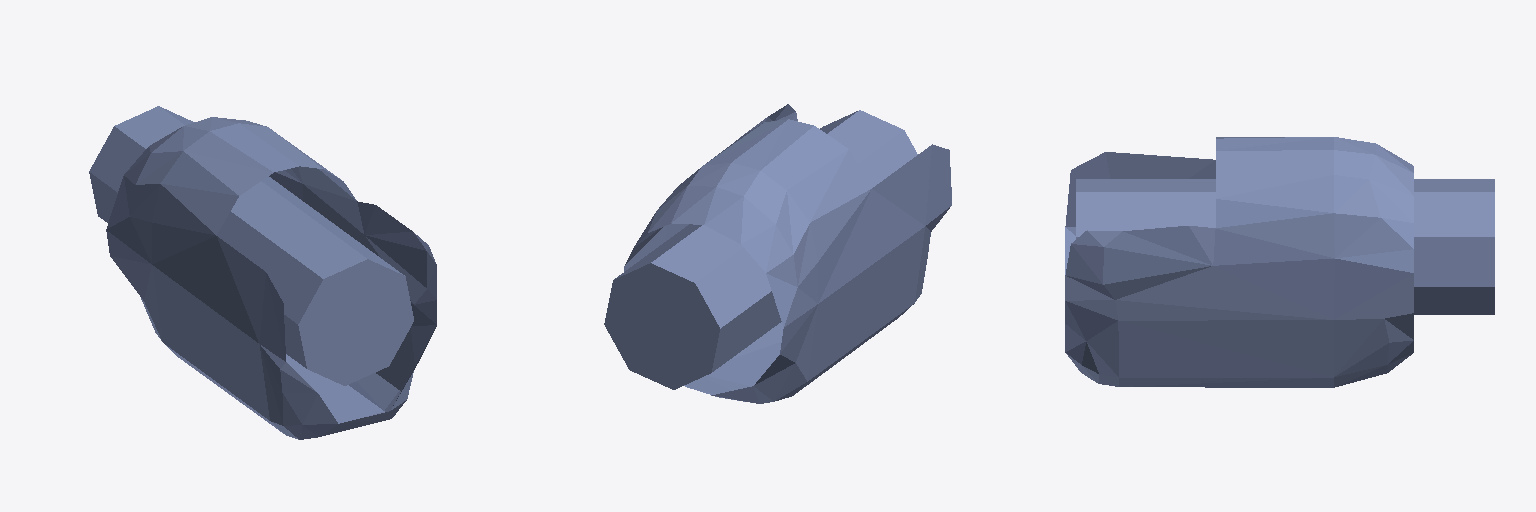
Rendered from icub_simple_collision_l_upper_arm.obj.
3 views of the same model, side by side, from view 1: azimuth 30°, elevation 25°; view 2: azimuth 150°, elevation 25°; view 3: azimuth 270°, elevation 25° (orthographic).
Visible parts, largest first — view 1: l_arm_mesh_Cylinder.008; view 2: l_arm_mesh_Cylinder.008; view 3: l_arm_mesh_Cylinder.008.
Part boxes in pixels (x1,y1,x2,y2): l_arm_mesh_Cylinder.008: (89, 106, 436, 439); l_arm_mesh_Cylinder.008: (604, 104, 951, 403); l_arm_mesh_Cylinder.008: (1065, 137, 1494, 387).
Bounding box in the file's own units: 0.0712 × 0.0911 × 0.16.